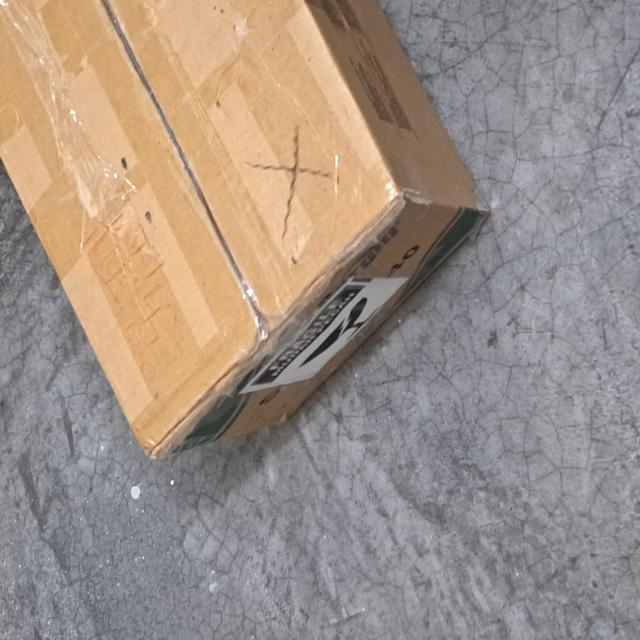cardboard: (0, 0, 490, 458)
